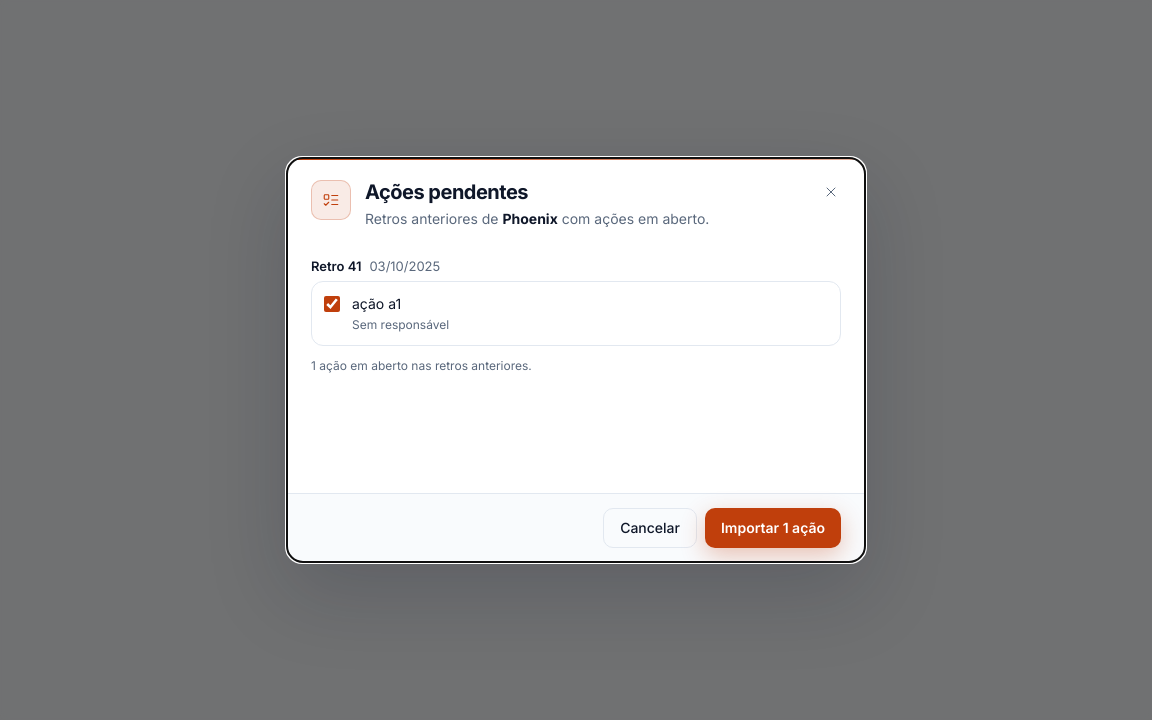
Test: importar ações pendentes › nada marcado: o botão fica desligado
Click the checkbox at (332, 304), box [324,296,340,312]
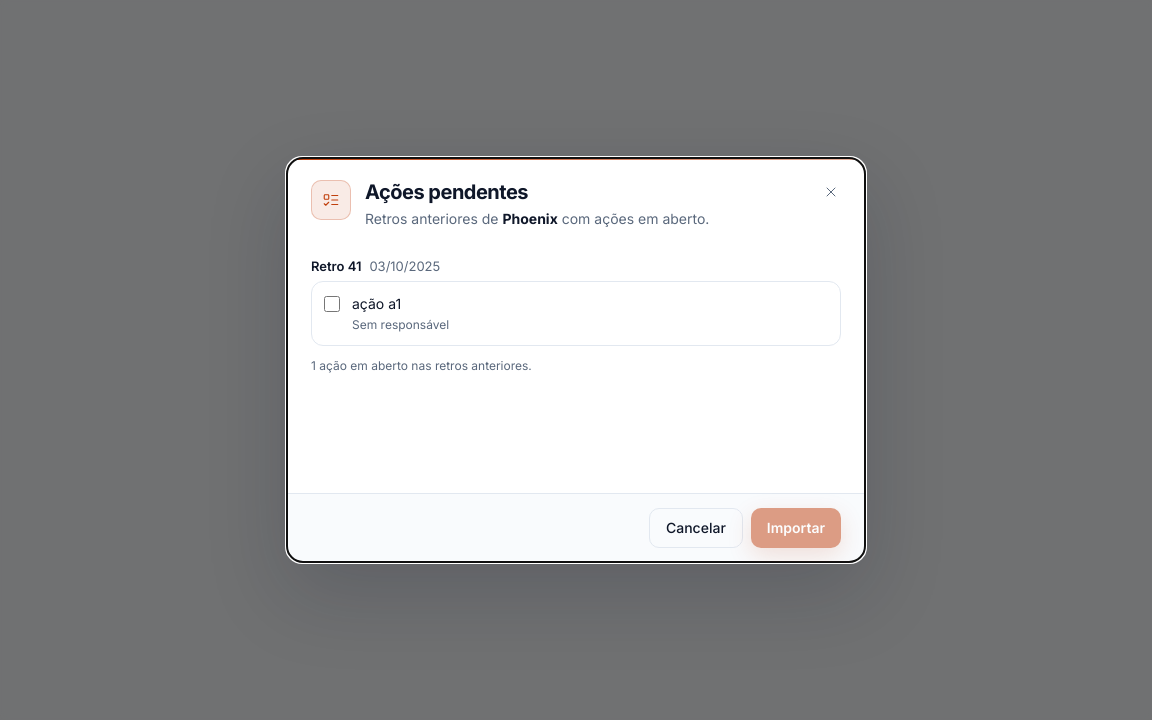
Now the button "Importar" is disabled, box [751,508,841,548]
